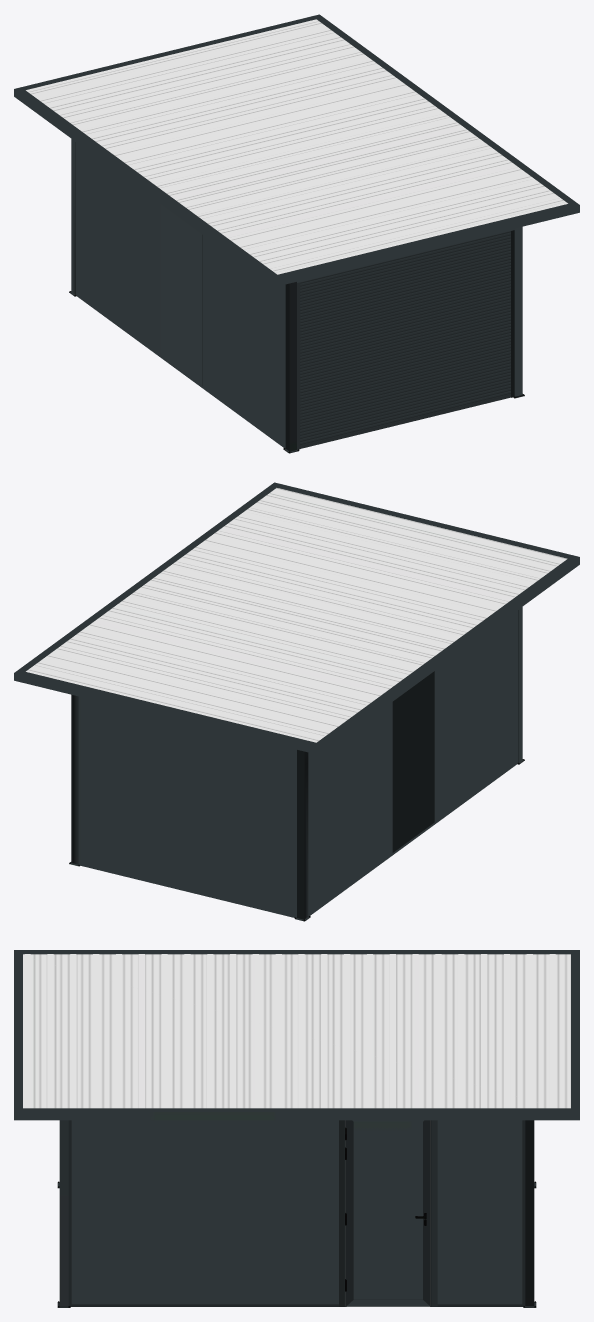
Rendered from 13439_PGEnroulable.fbx.
3 renders of one model, top to bottom at view 1: azimuth 30°, elevation 25°; view 2: azimuth 150°, elevation 25°; view 3: azimuth 270°, elevation 25°, orthographic. The views are drawn at different scales.
Visible parts, largest first — view 1: priximbattable_net_abris_de_voiture_13439_garage_5_x_3m_toit, lame_10, lame_12, lame_11, lame_9, lame_4, lame_3, lame_2, lame_15, lame_14, lame_8, lame_5 (+9 smaller); view 2: priximbattable_net_abris_de_voiture_13439_garage_5_x_3m_toit; view 3: priximbattable_net_abris_de_voiture_13439_garage_5_x_3m_toit, folha, porta.
Boxes of the visible parts, bbox=[...] form: priximbattable_net_abris_de_voiture_13439_garage_5_x_3m_toit: bbox=[14, 14, 579, 453]; lame_10: bbox=[300, 284, 510, 344]; lame_12: bbox=[300, 266, 510, 326]; lame_11: bbox=[300, 275, 510, 335]; lame_9: bbox=[300, 293, 510, 353]; lame_4: bbox=[300, 339, 510, 399]; lame_3: bbox=[300, 348, 510, 408]; lame_2: bbox=[300, 357, 510, 417]; lame_15: bbox=[300, 238, 510, 298]; lame_14: bbox=[300, 247, 510, 307]; lame_8: bbox=[300, 302, 510, 362]; lame_5: bbox=[300, 330, 510, 390]; priximbattable_net_abris_de_voiture_13439_garage_5_x_3m_toit: bbox=[14, 482, 579, 921]; priximbattable_net_abris_de_voiture_13439_garage_5_x_3m_toit: bbox=[14, 950, 579, 1307]; folha: bbox=[345, 1120, 430, 1306]; porta: bbox=[339, 1120, 437, 1306].
Size of the model in its own units: 420 by 259 by 620.
1 material, 1 textured.
